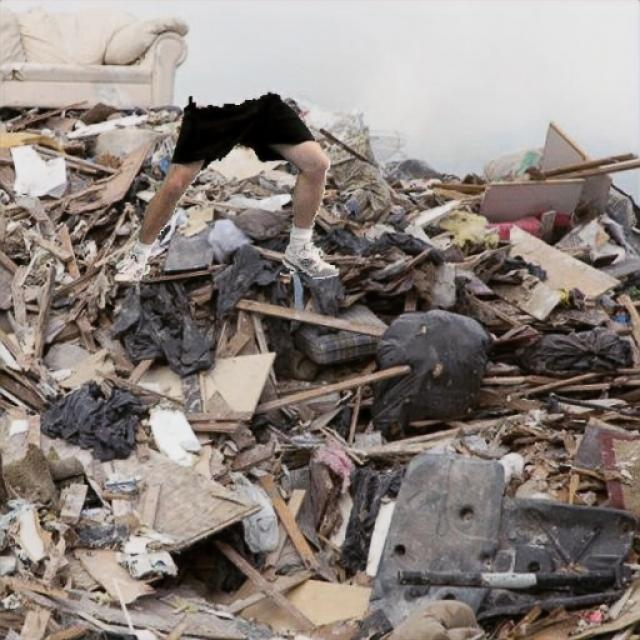Person in Rubble: (114, 92, 338, 280)
